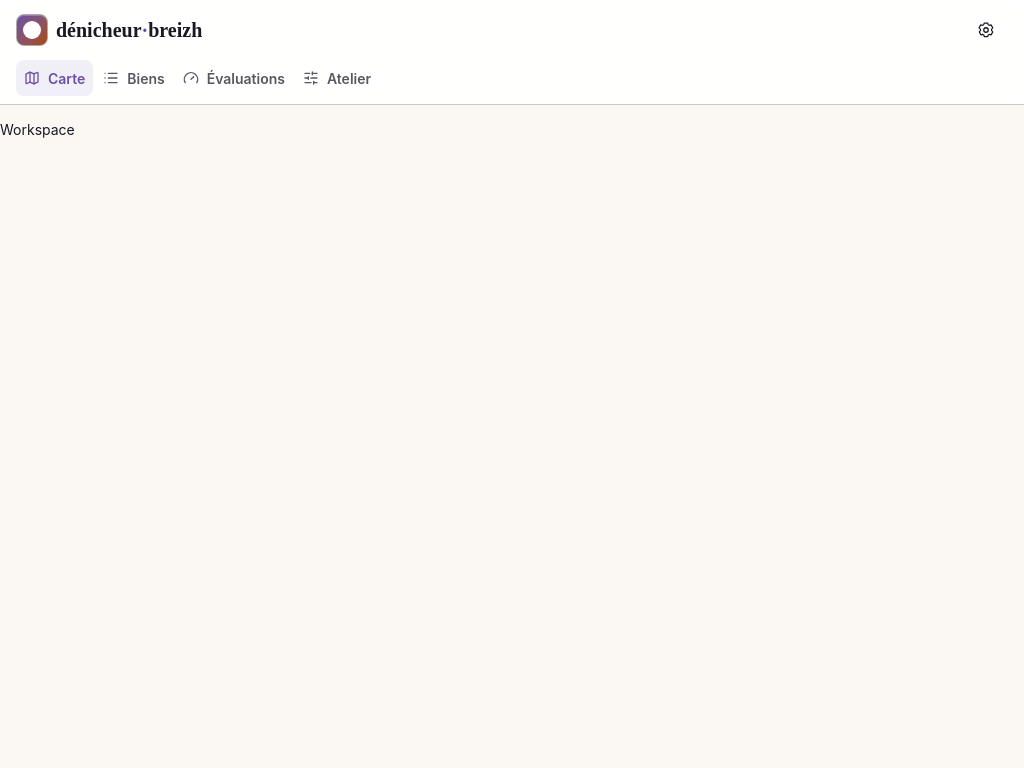
Test case: Shell API status › reports a failed health refresh even with cached healthy data and recovers on success
Expected: the text "API connectée" is not shown
Click the button named "Paramètres" at (986, 30), box x1=964 y1=8 x2=1008 y2=52
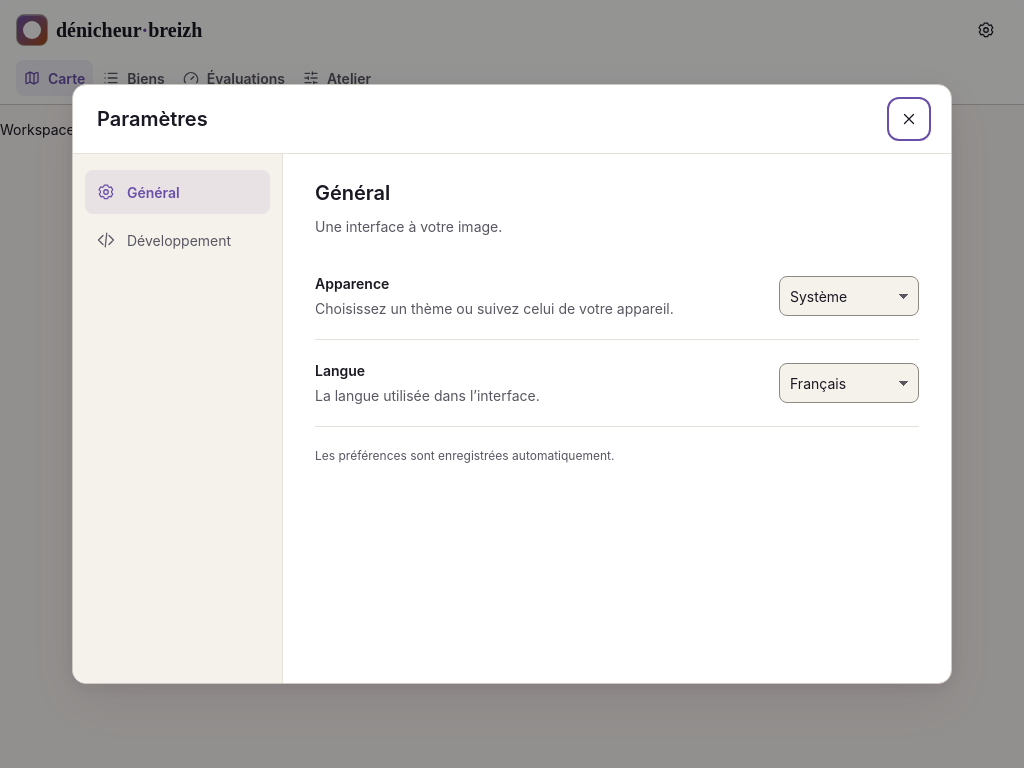
Click the button "Développement" at (178, 240), box x1=85 y1=218 x2=270 y2=262
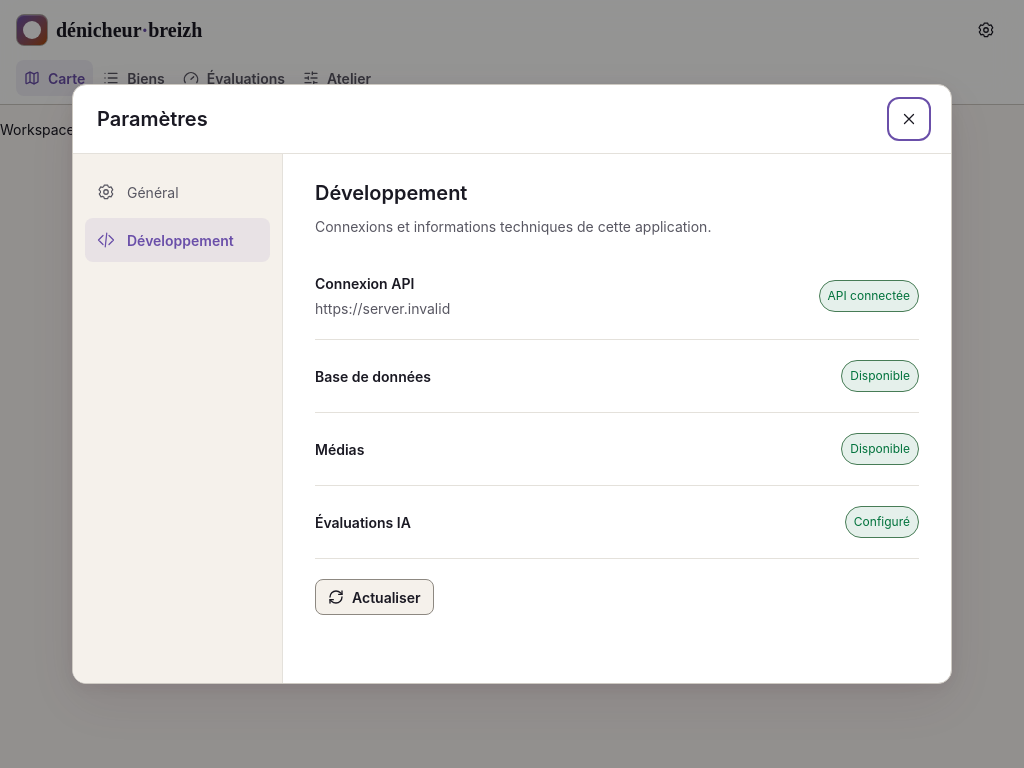
Result: the text "API connectée" is shown at x1=819 y1=280 x2=919 y2=312
